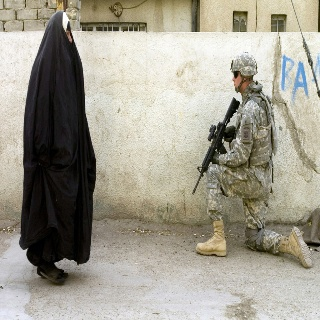rifle: (193, 96, 238, 196)
